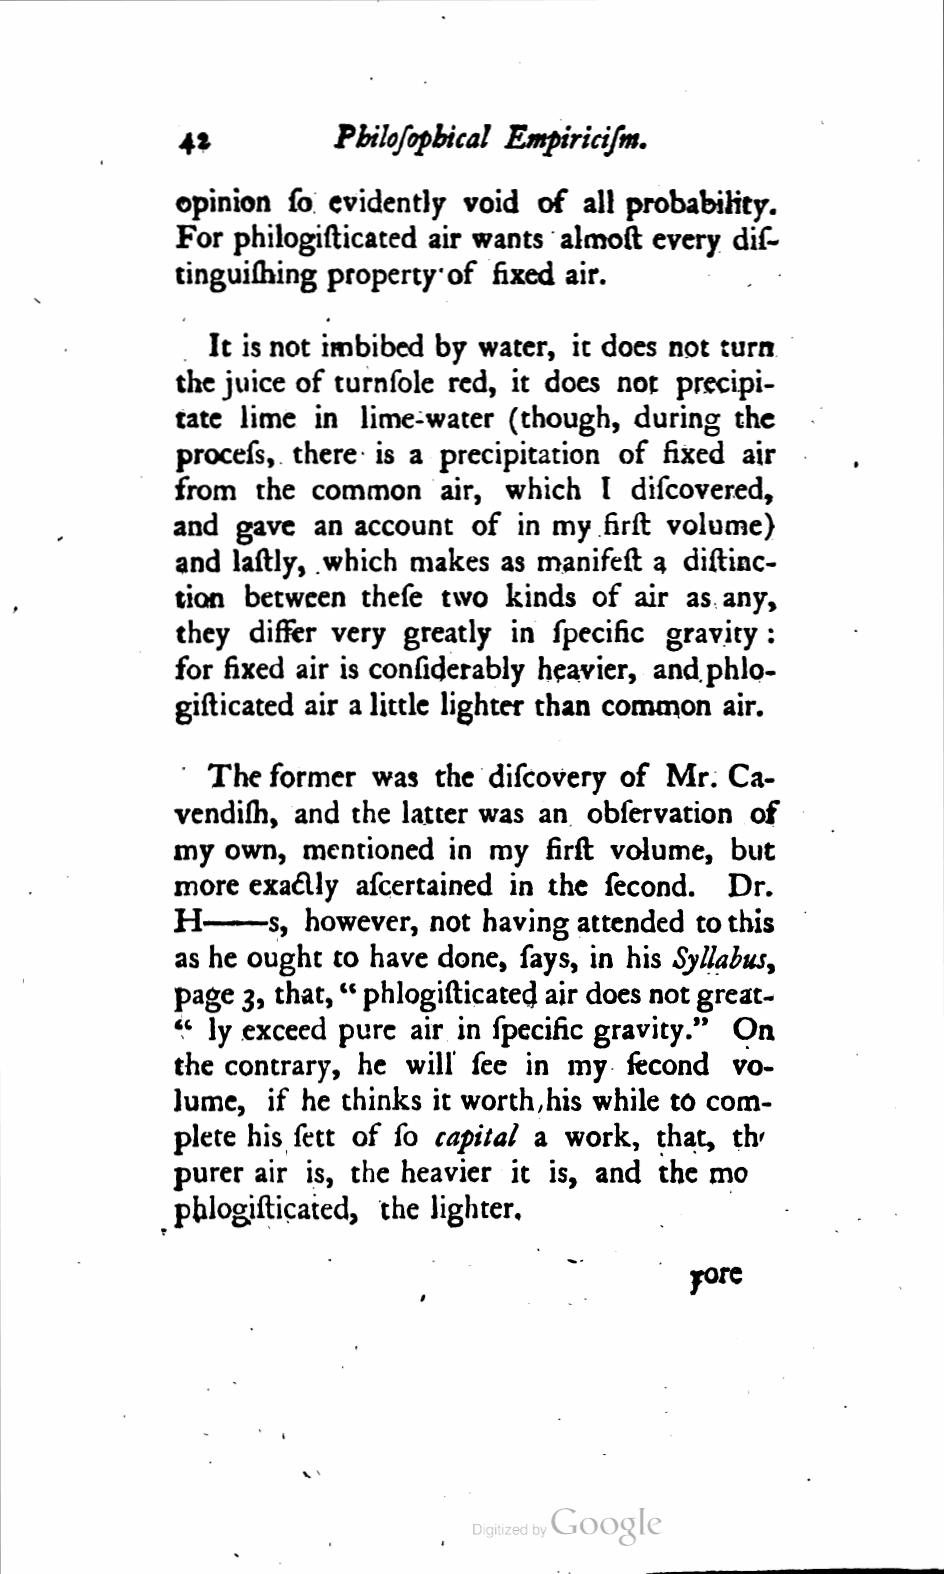bottom_p: (174, 188, 782, 292)
catchword: (686, 1261, 746, 1296)
full_p: (172, 759, 778, 1226), (172, 326, 778, 730)
header: (332, 113, 659, 166)
page_num: (174, 128, 214, 158)
